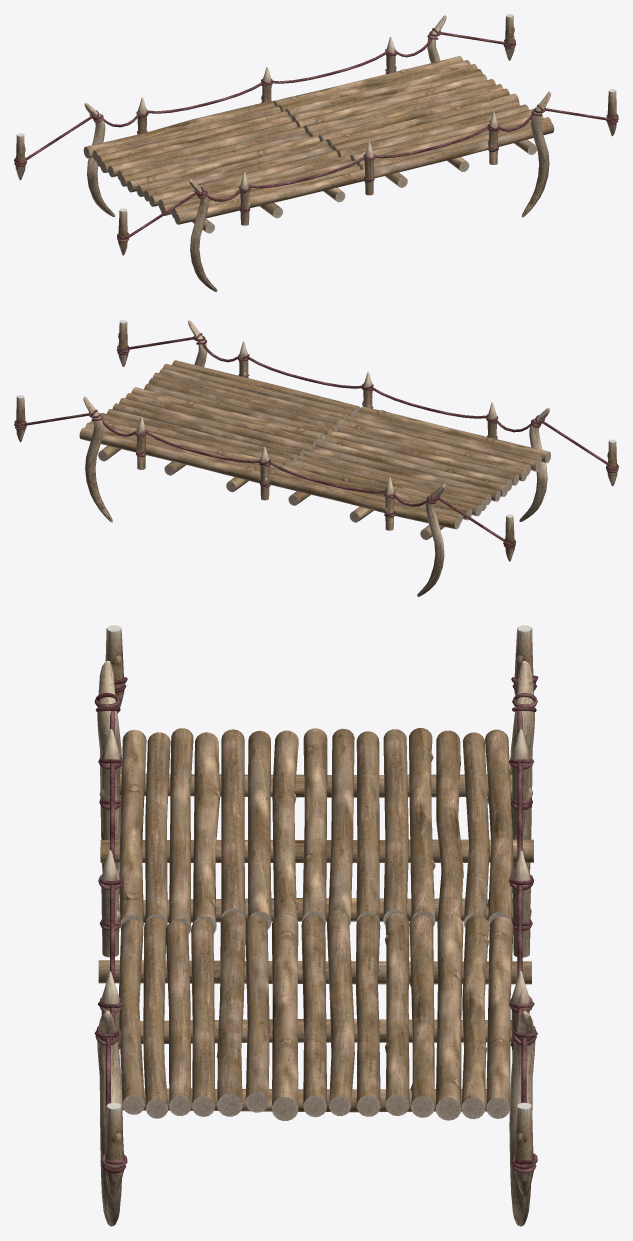
The picture shows the model from 3 angles, top to bottom: view 1: azimuth 30°, elevation 25°; view 2: azimuth 150°, elevation 25°; view 3: azimuth 270°, elevation 25°; orthographic projection. The views are drawn at different scales.
Parts seen in each view (by area): view 1: SM_Garou_Set_SM_Bespoke_Bridge_01_LOD0; view 2: SM_Garou_Set_SM_Bespoke_Bridge_01_LOD0; view 3: SM_Garou_Set_SM_Bespoke_Bridge_01_LOD0.
Boxes of the visible parts, bbox=[...] form: SM_Garou_Set_SM_Bespoke_Bridge_01_LOD0: bbox=[14, 14, 618, 291]; SM_Garou_Set_SM_Bespoke_Bridge_01_LOD0: bbox=[14, 320, 618, 596]; SM_Garou_Set_SM_Bespoke_Bridge_01_LOD0: bbox=[94, 625, 538, 1226].
Bounding box in the file's own units: 16.13 × 3.71 × 6.2.
Materials: 2 (2 with a texture image).
